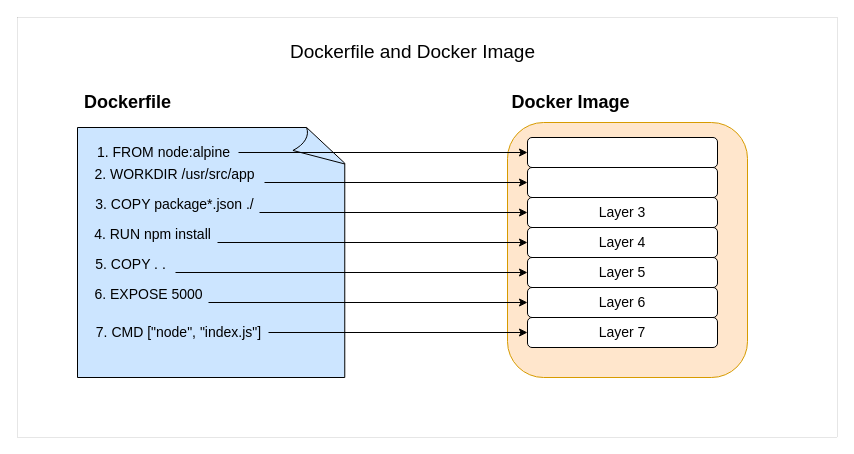
Some shapes in this 854 by 454 pixel diagram are drawn without their labels. Each missing label, with the centre of its shape:
"Layer 1 - Base Layer" belongs at [622,152].
"Layer 2" belongs at [622,182].
